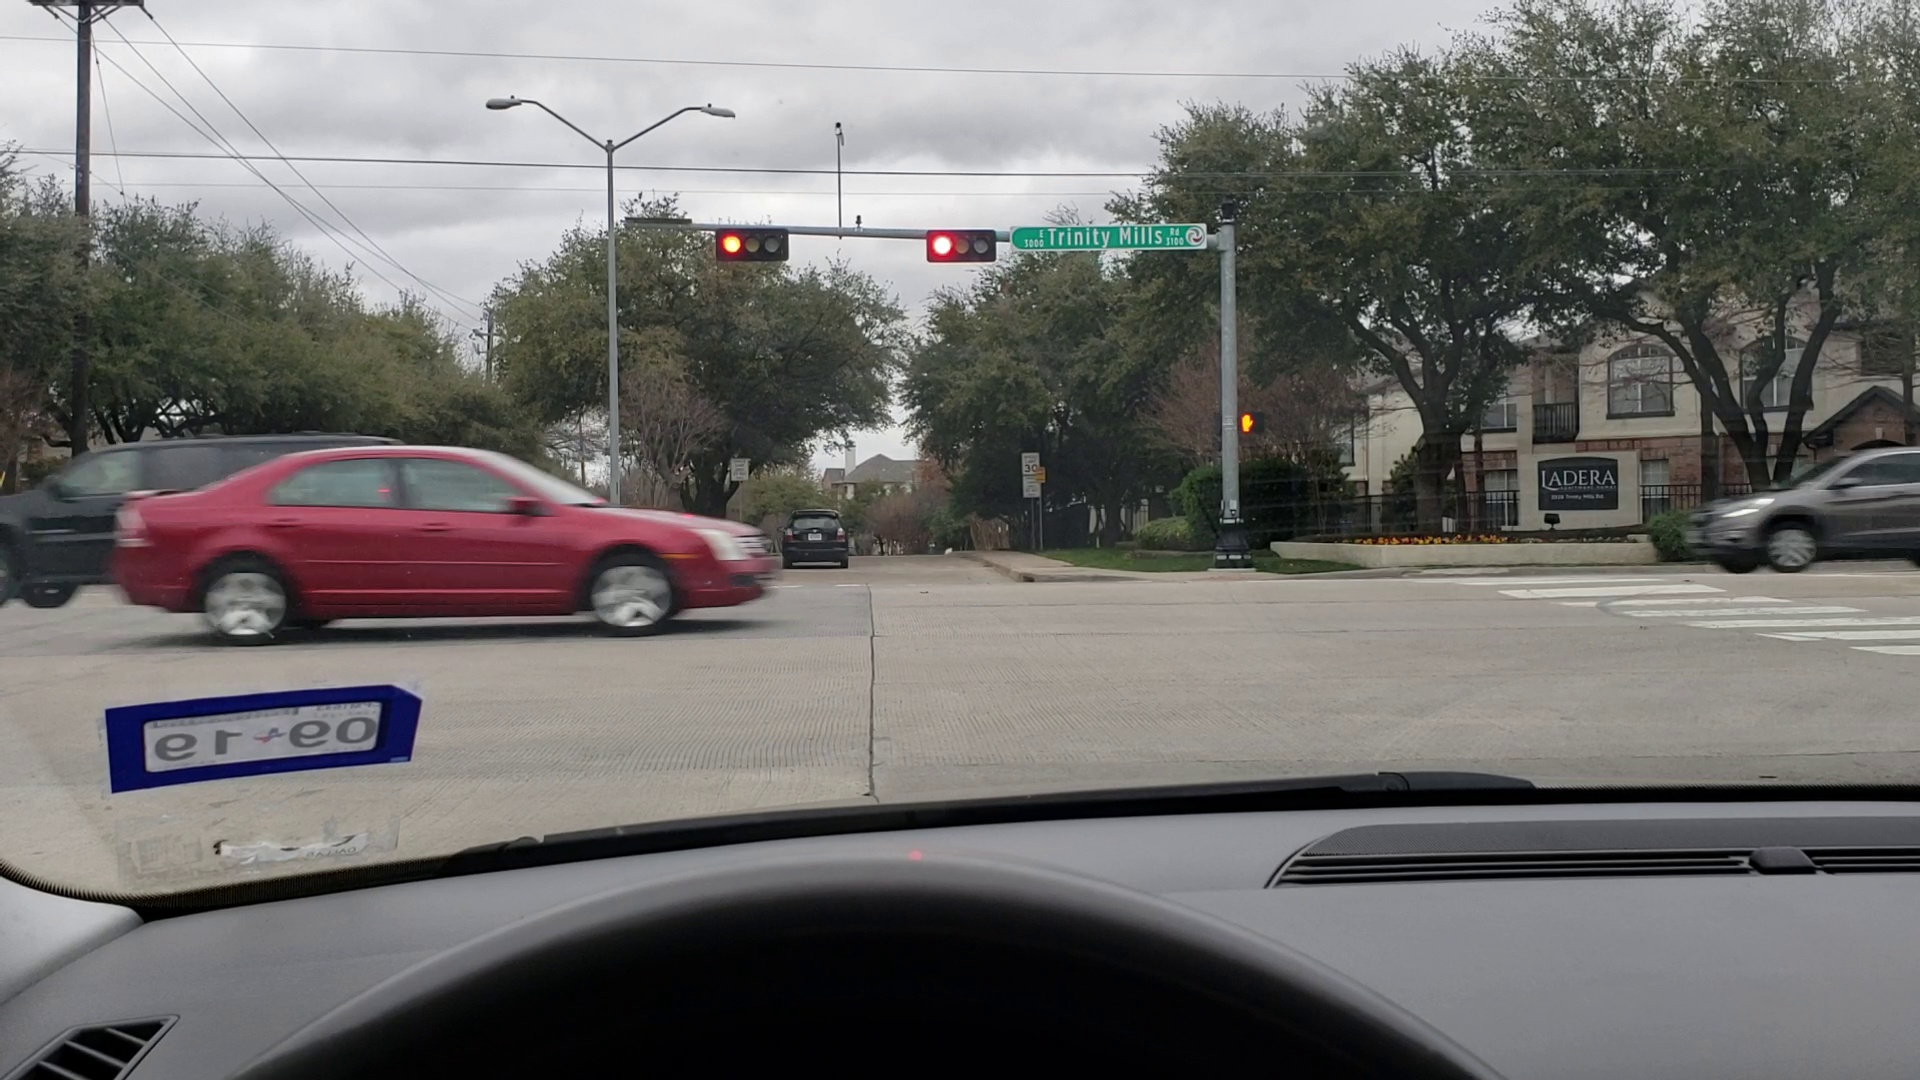car: (116, 440, 767, 640), (4, 425, 417, 609), (1683, 439, 1920, 564), (783, 504, 851, 578)
traffic light: (721, 222, 793, 262), (928, 227, 996, 261)
